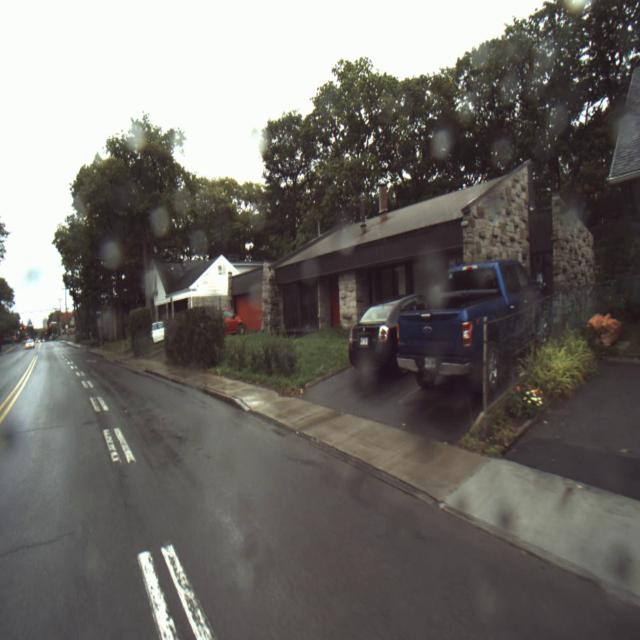car: (400, 276, 544, 366), (348, 292, 397, 370), (24, 338, 38, 351)
